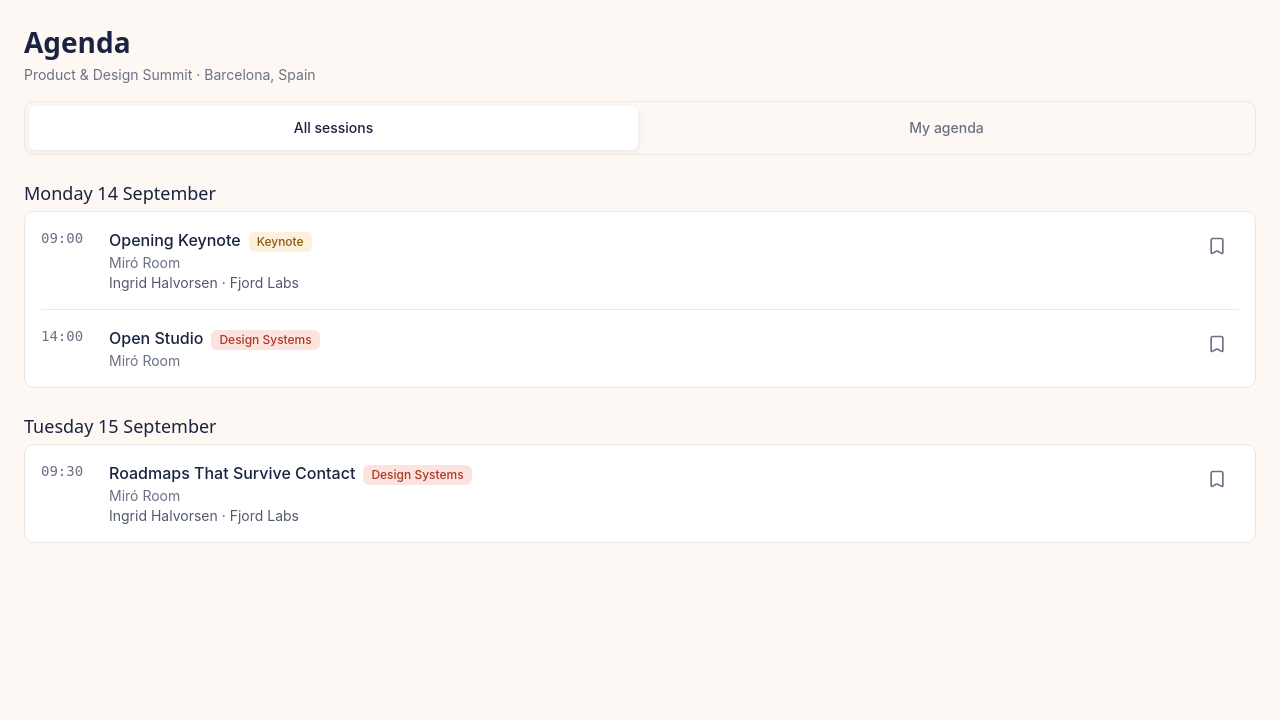
Test: Agenda at desktop width › keeps the PROGRAMME MOUNTED behind the open panel (research D4)
Click the link "Opening Keynote". click: coordinates (175, 240)
box: [109,230,241,250]
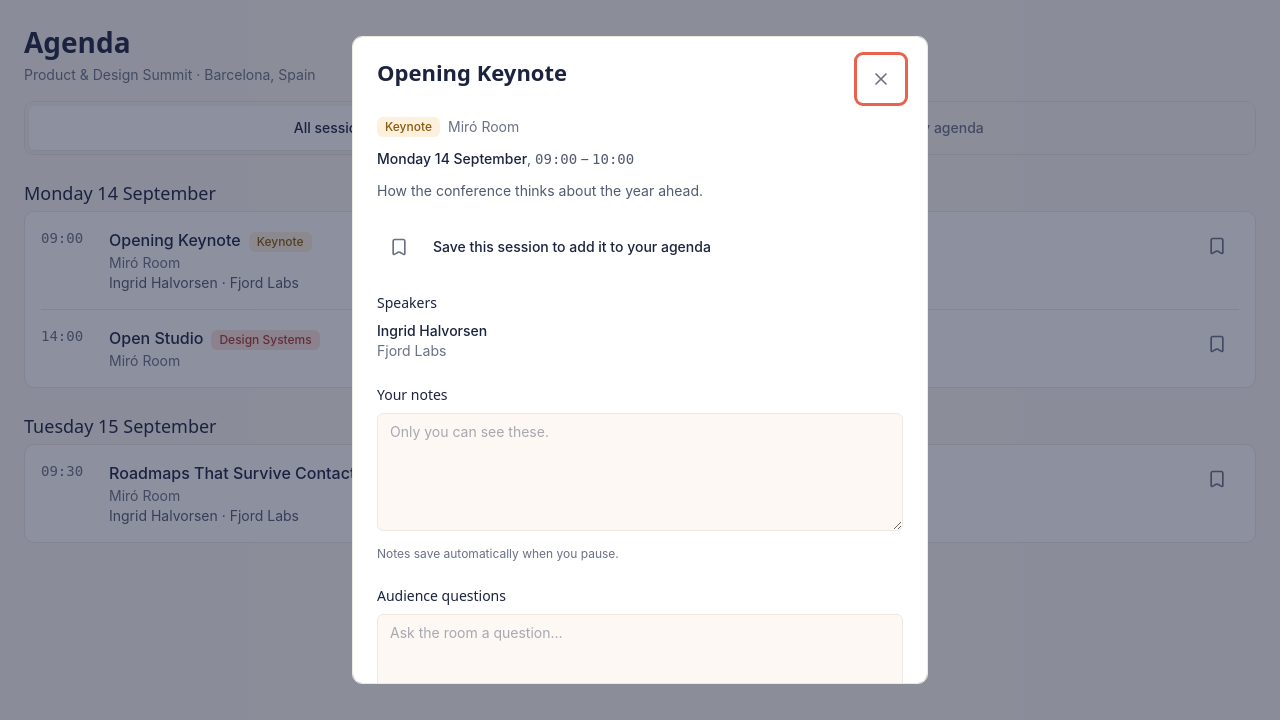
Check: the heading "Open Studio" is shown, box [109,326,203,351]
Check: the dialog is shown, box [352,36,928,684]
